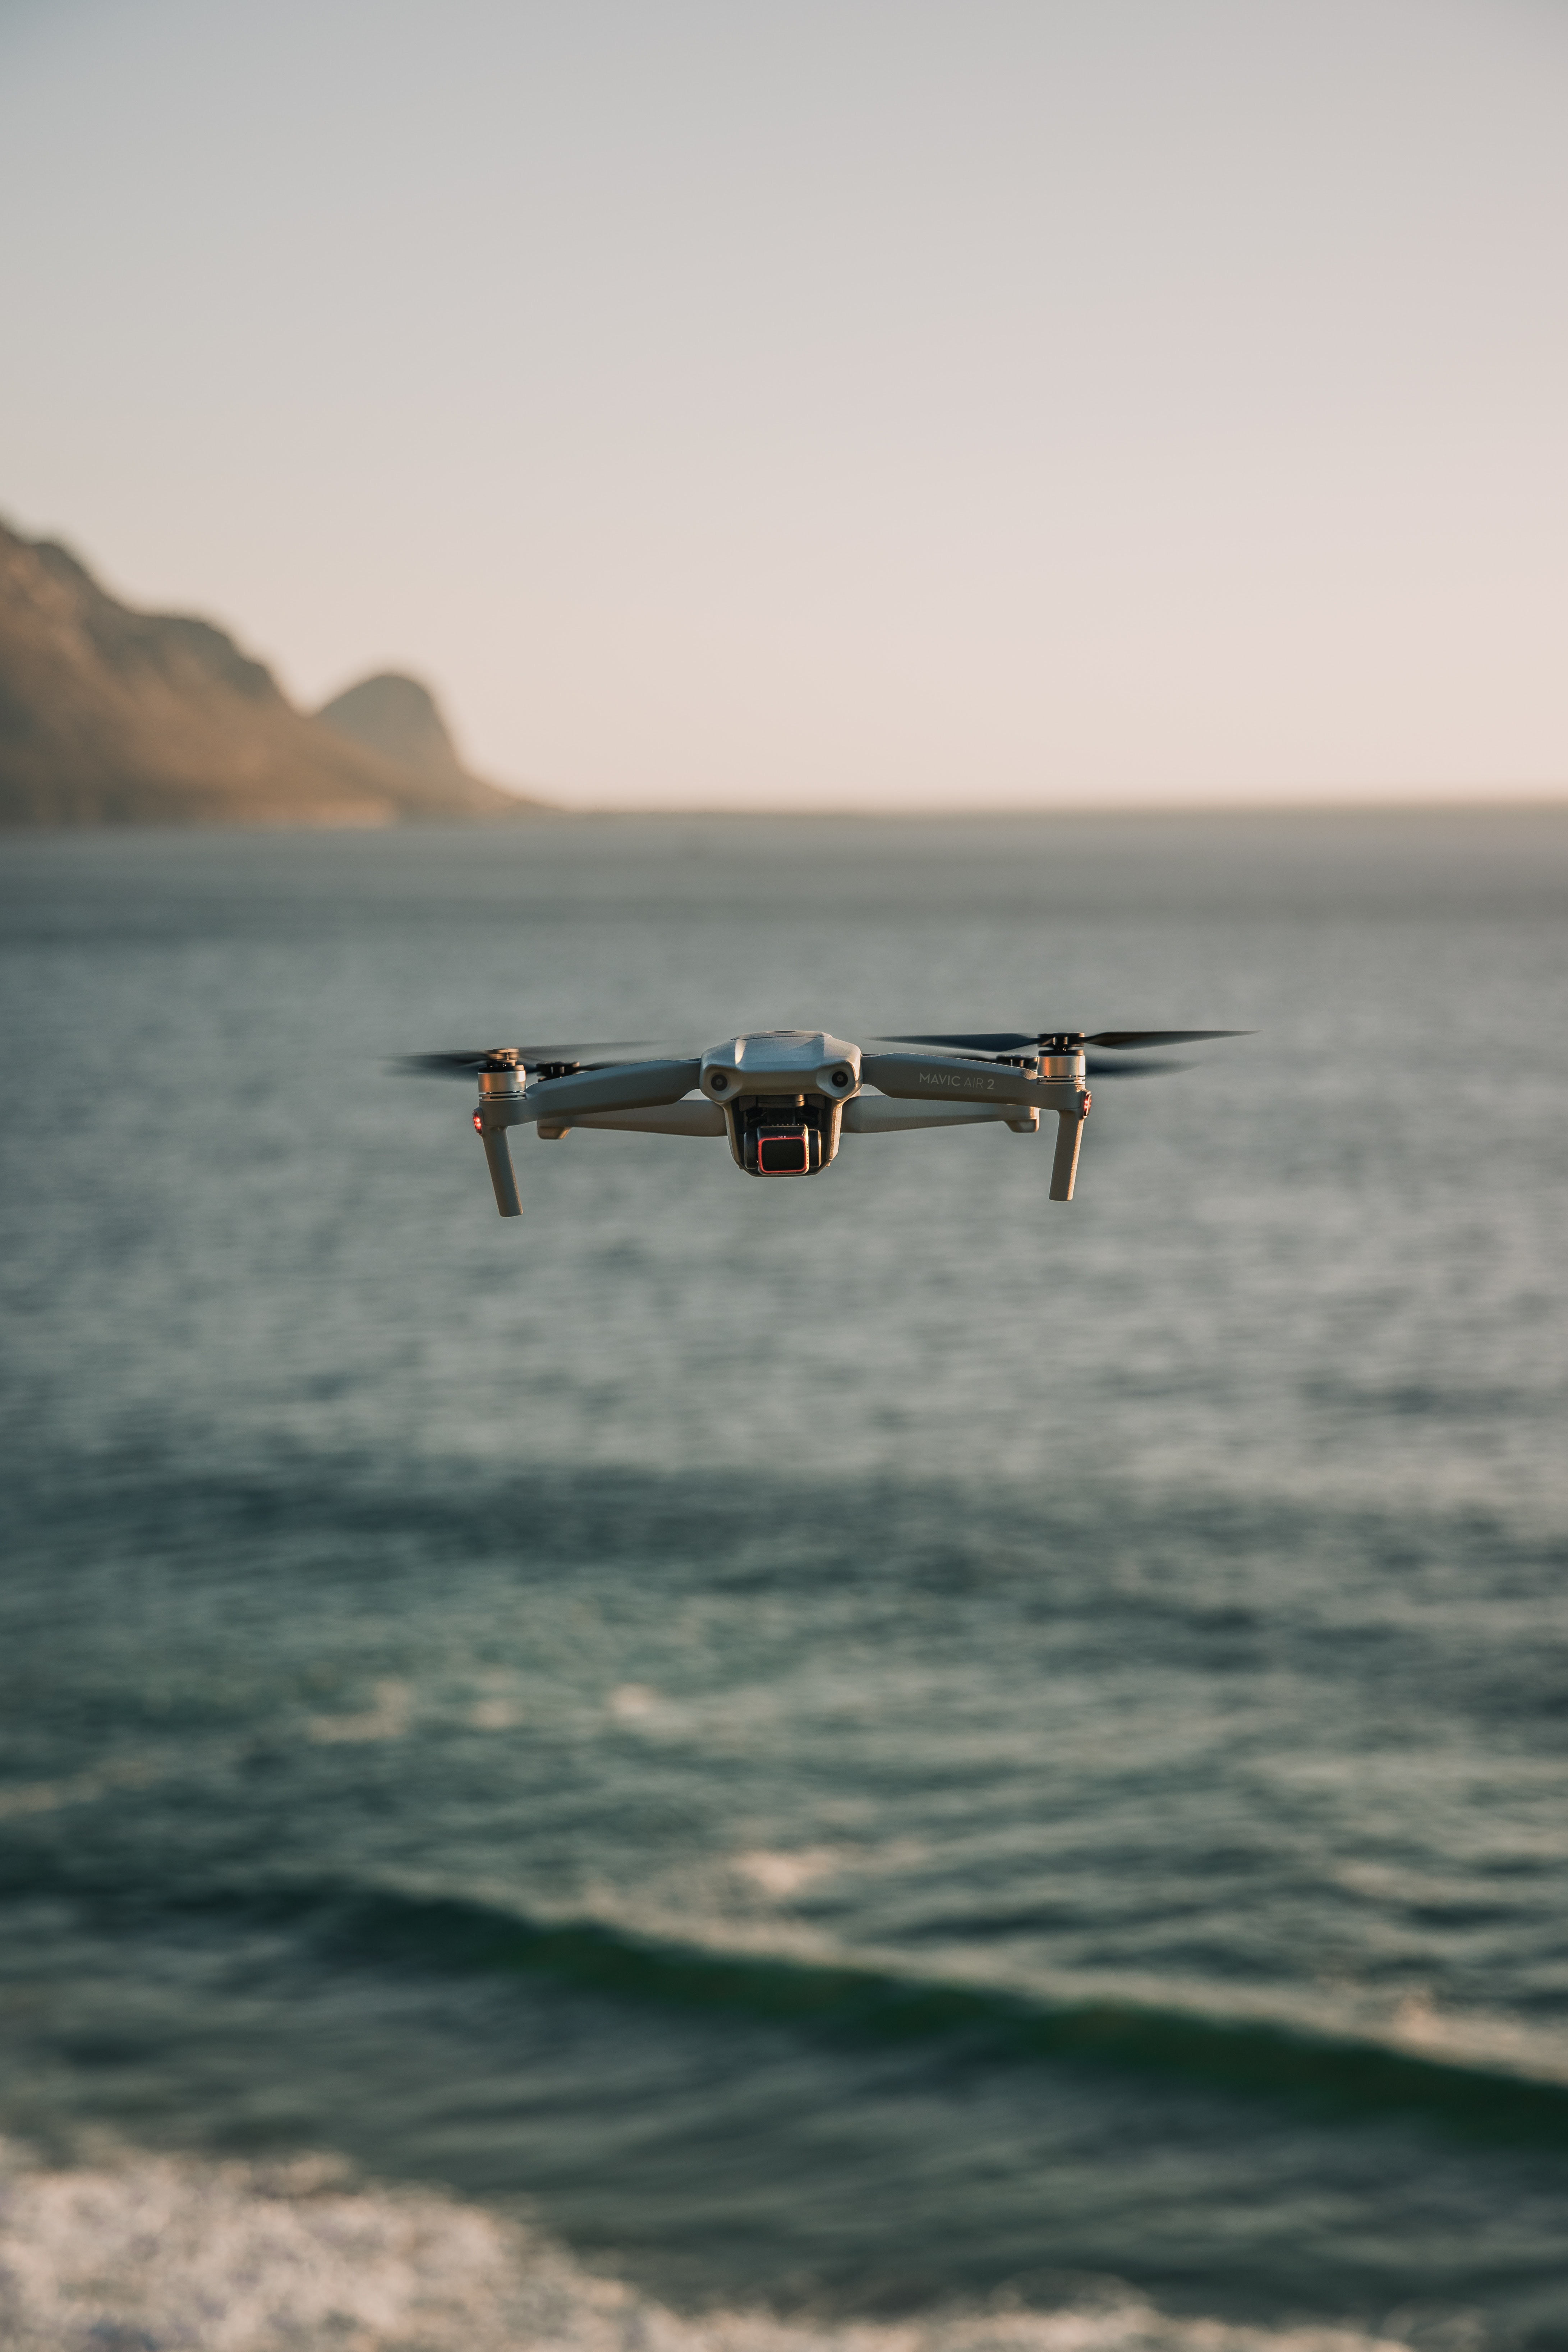drone: (270, 796, 1393, 1358)
